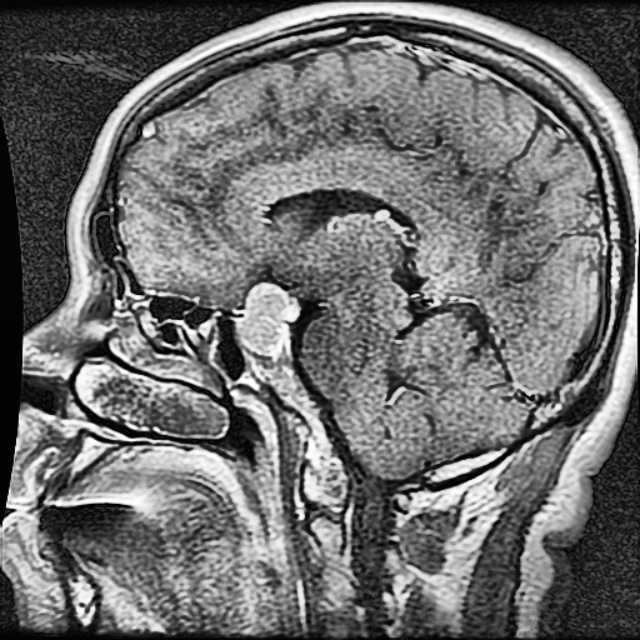Pituitary: (237, 280, 300, 358)
